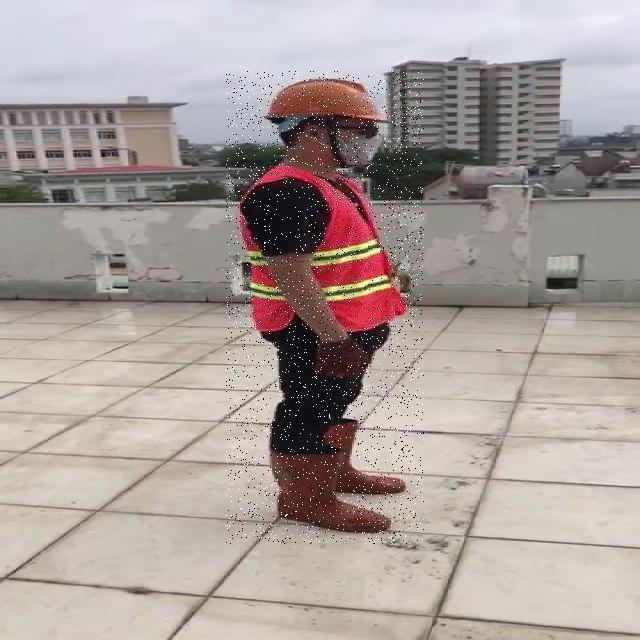gloves: (313, 335, 374, 377)
goggles: (320, 119, 381, 142)
helmet: (263, 75, 394, 125)
safety_vest: (242, 169, 402, 333)
